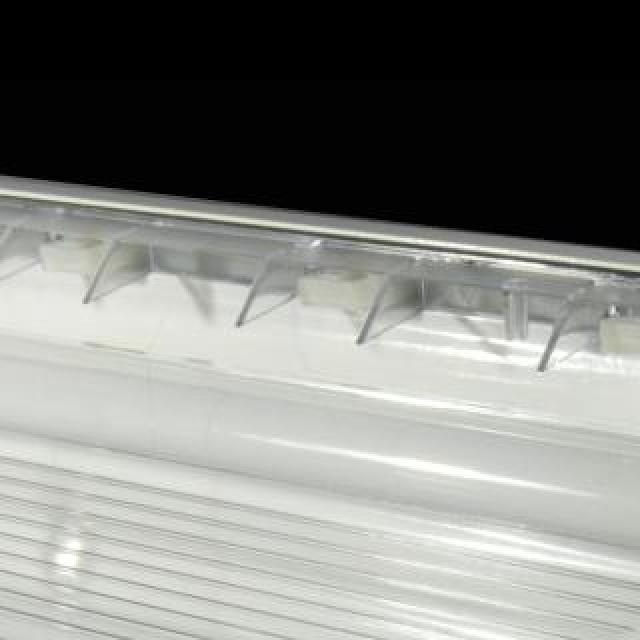fluorescent tube: (0, 194, 640, 628), (0, 556, 640, 640)
